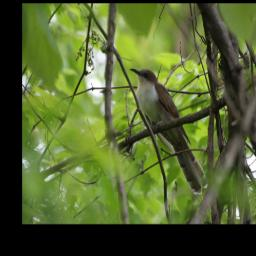Cuckoo: (129, 65, 208, 196)
